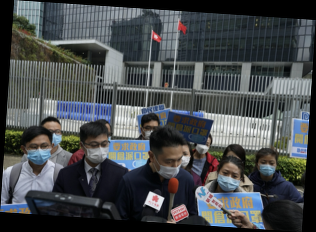with_mask: (156, 152, 182, 181), (25, 141, 52, 166), (216, 167, 241, 193), (85, 138, 110, 163), (42, 127, 61, 150), (258, 157, 277, 176), (142, 123, 158, 140), (195, 140, 210, 156), (180, 149, 191, 169)
